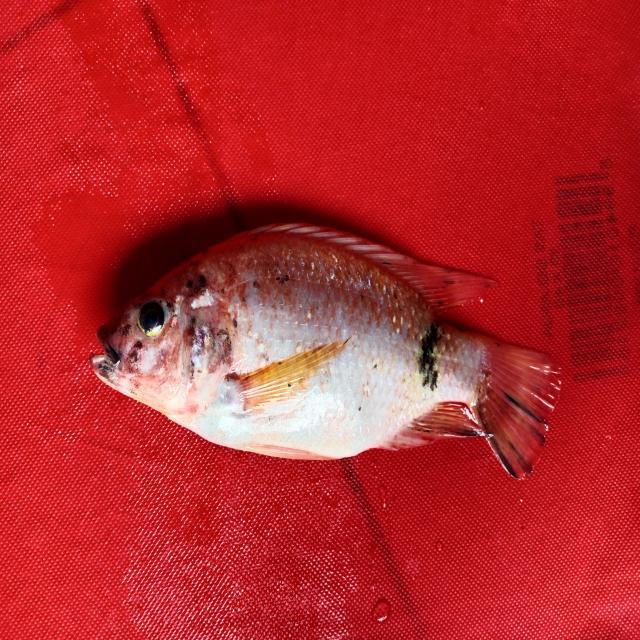ikan: (78, 203, 574, 499)
